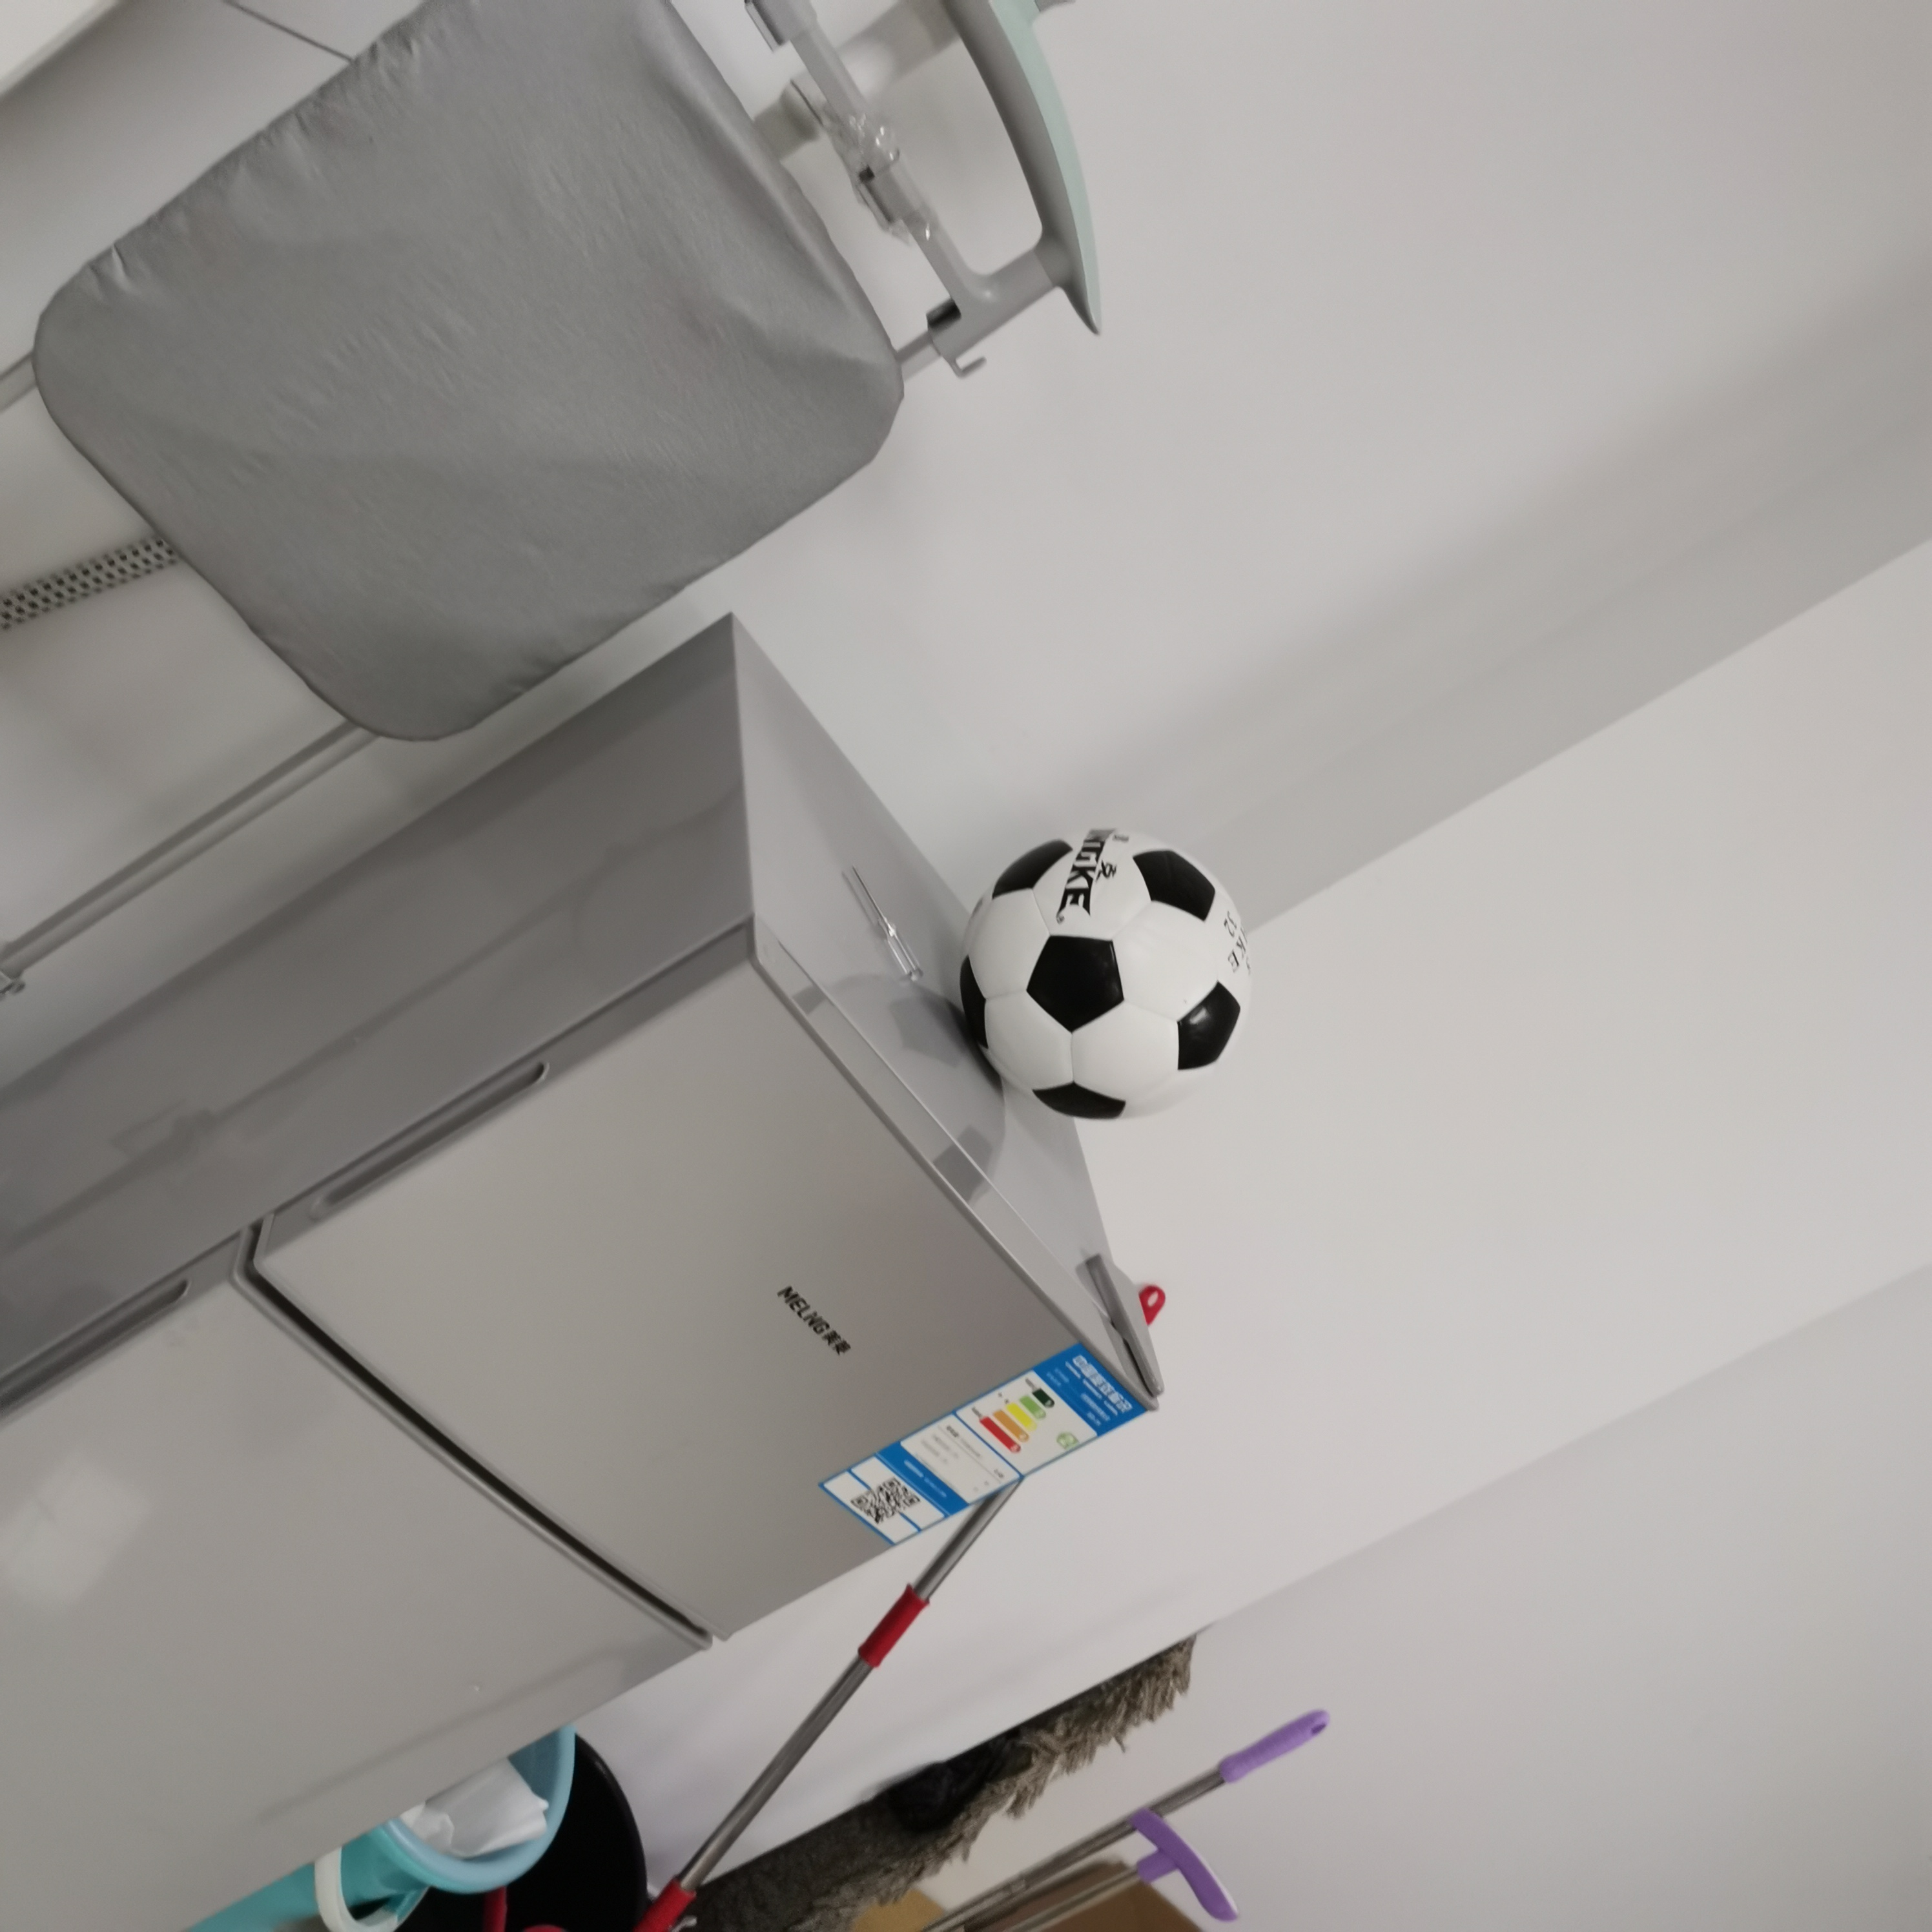football: (961, 828, 1249, 1123)
